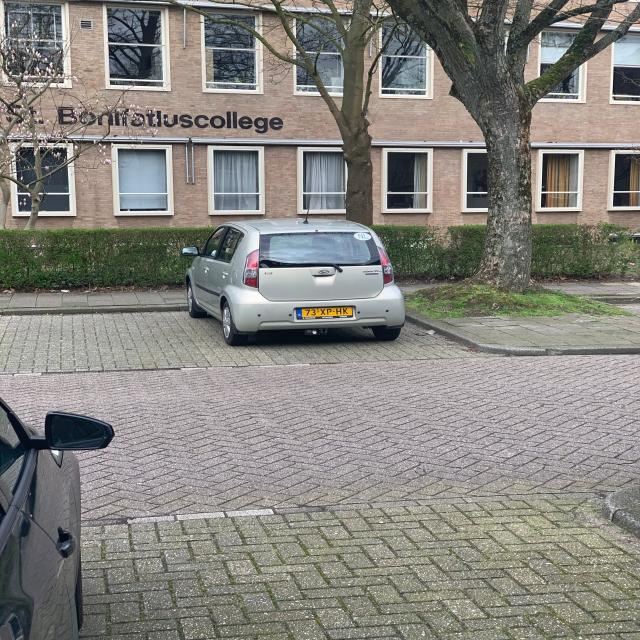plate: (294, 304, 357, 320)
